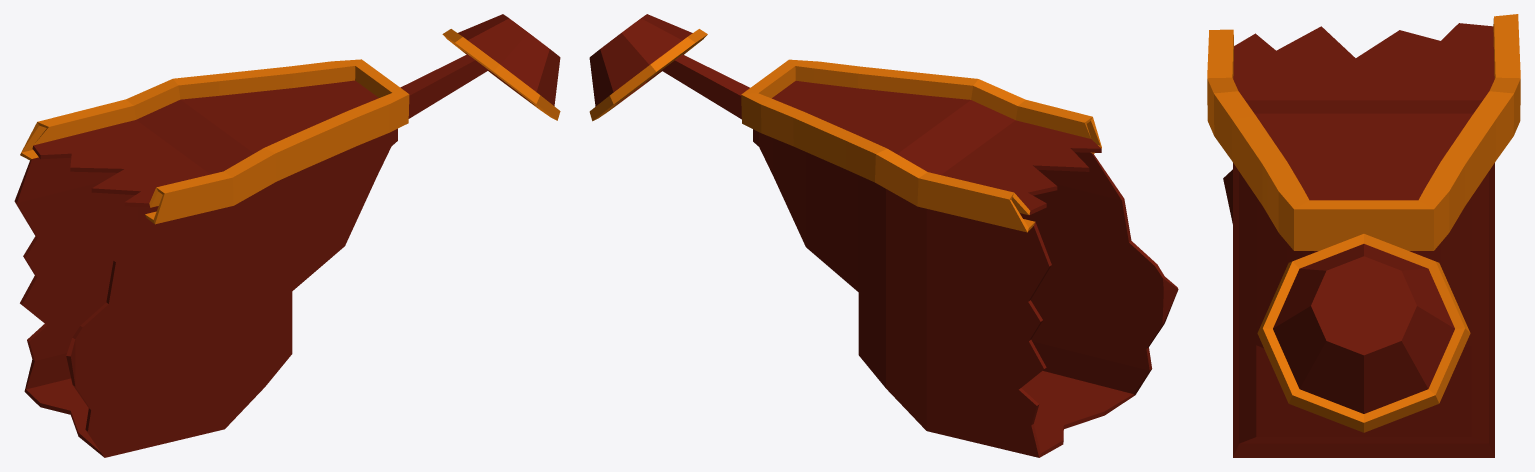
Rendered from ShipWreck.fbx.
The picture shows the model from 3 angles, left to right: view 1: azimuth 30°, elevation 25°; view 2: azimuth 150°, elevation 25°; view 3: azimuth 270°, elevation 25°; orthographic projection. The views are drawn at different scales.
Visible parts, largest first — view 1: Shipwreck; view 2: Shipwreck; view 3: Shipwreck.
Part boxes in pixels (box(x1,y1,x2,y2)): Shipwreck: box(14, 14, 560, 457); Shipwreck: box(589, 14, 1178, 457); Shipwreck: box(1207, 14, 1520, 457).
Size of the model in its own units: 773 by 412 by 268.
